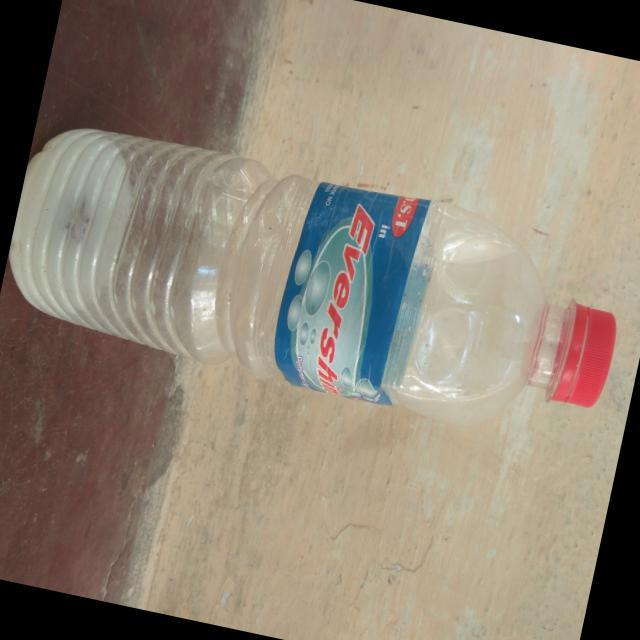good: (0, 98, 640, 464)
